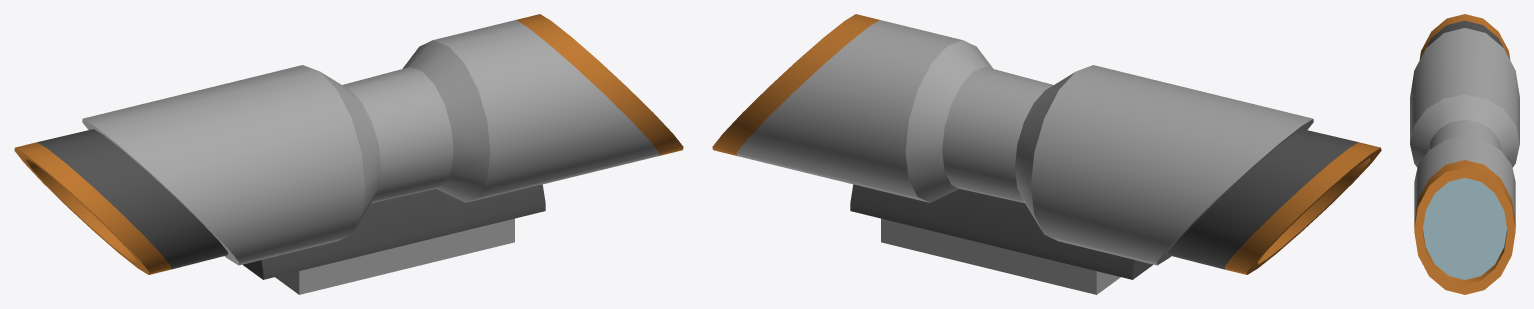
File: quaternius-modular-sci-fi-guns-pack-scope-1.glb
3 views of the same model, side by side, from view 1: azimuth 30°, elevation 25°; view 2: azimuth 150°, elevation 25°; view 3: azimuth 270°, elevation 25° (orthographic). The views are drawn at different scales.
Parts seen in each view (by area): view 1: Scope_1; view 2: Scope_1; view 3: Scope_1.
Boxes of the visible parts, x1,y1,x2,y2 form: Scope_1: (14,14,683,294); Scope_1: (712,14,1381,294); Scope_1: (1410,14,1519,294).
Size of the model in its own units: 0.5103 by 0.1544 by 0.1235.
